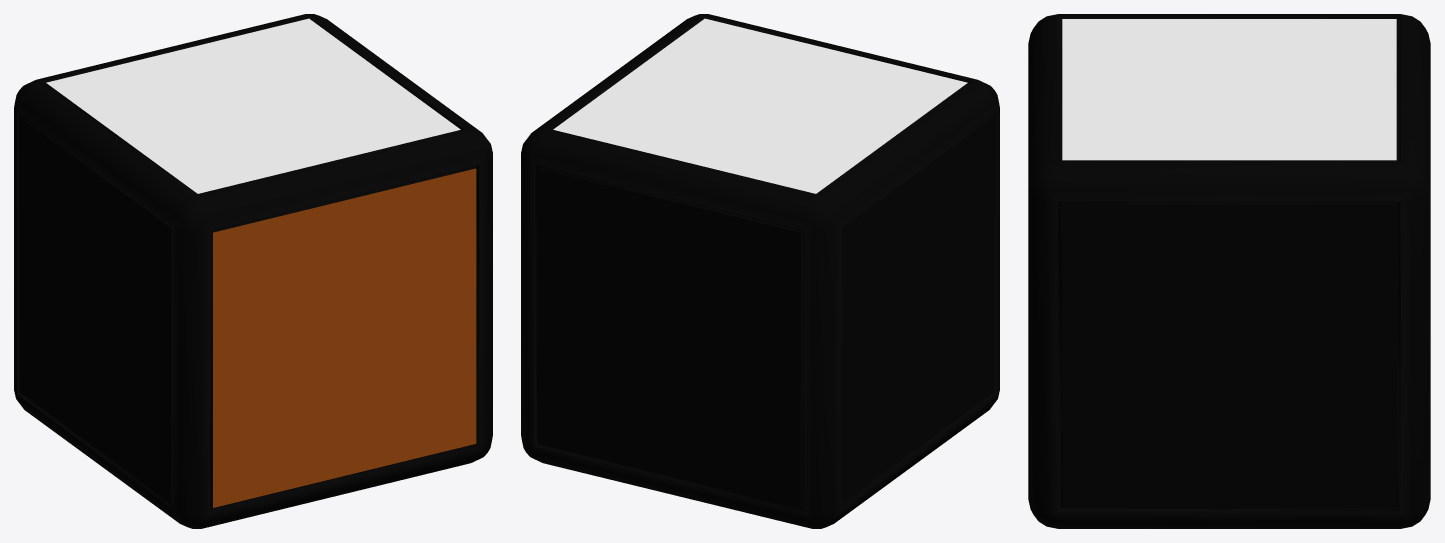
Rendered from oneCubeObjToOrg10.gltf.
3 views of the same model, side by side, from view 1: azimuth 30°, elevation 25°; view 2: azimuth 150°, elevation 25°; view 3: azimuth 270°, elevation 25° (orthographic). The views are drawn at different scales.
Parts seen in each view (by area): view 1: Cube.013; view 2: Cube.013; view 3: Cube.013.
Boxes of the visible parts, x1,y1,x2,y2 form: Cube.013: (14,14,492,528); Cube.013: (521,14,999,528); Cube.013: (1028,14,1430,528).
Bounding box in the file's own units: 2 × 2 × 2.
